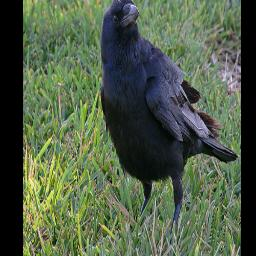Crow: (100, 0, 239, 239)
